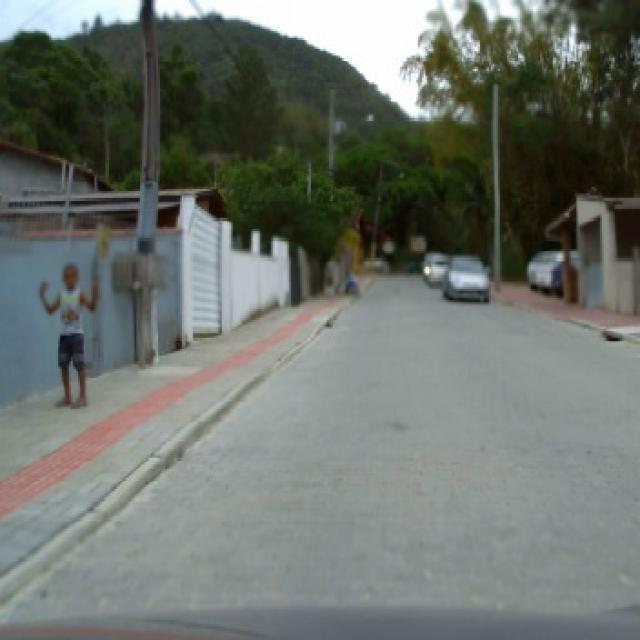Poth-hole: (604, 327, 628, 340)
